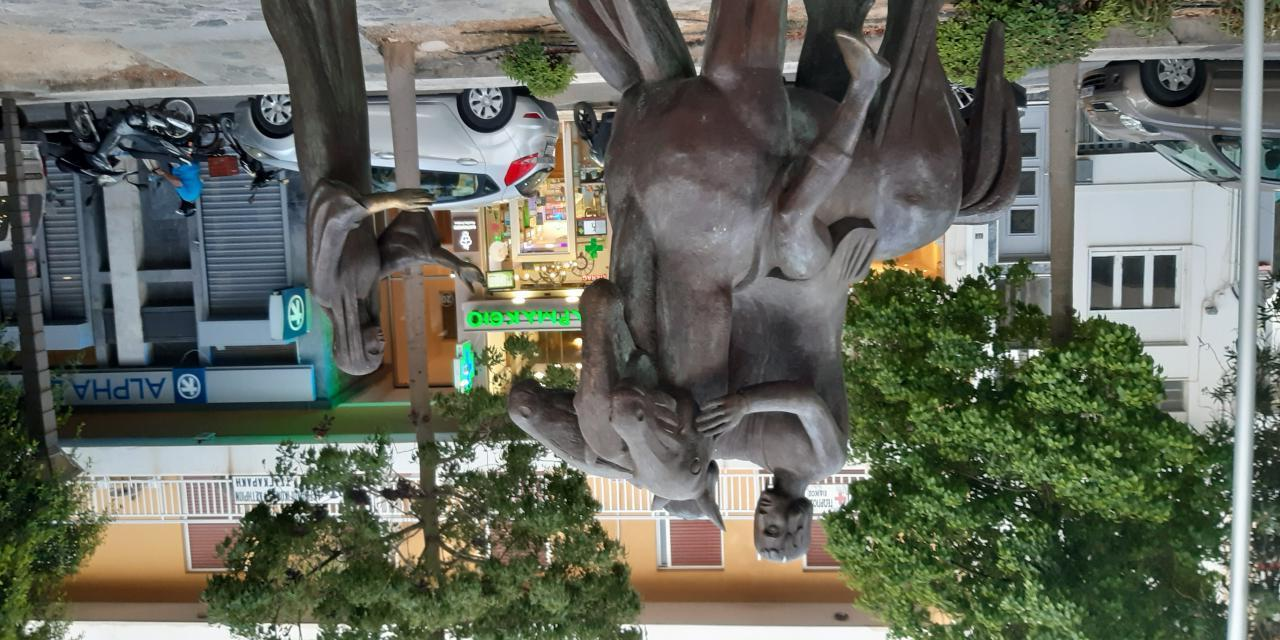Aretousa: (259, 1, 1025, 562)
